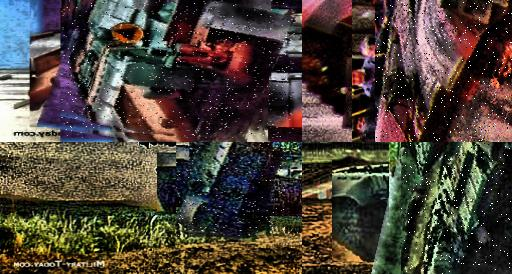tanks: (61, 1, 295, 139), (376, 1, 512, 143), (402, 143, 512, 274), (177, 143, 285, 237)
